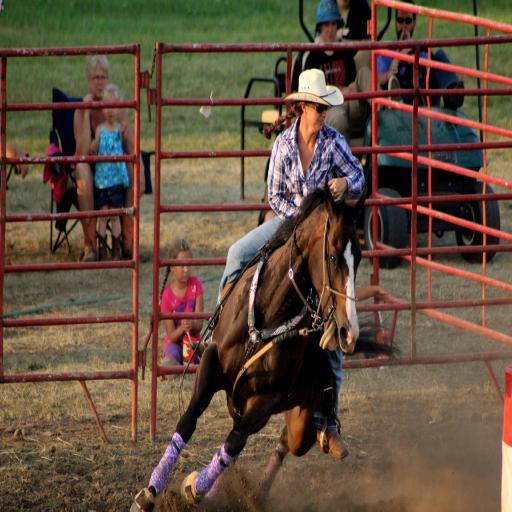horse: (126, 178, 370, 512)
